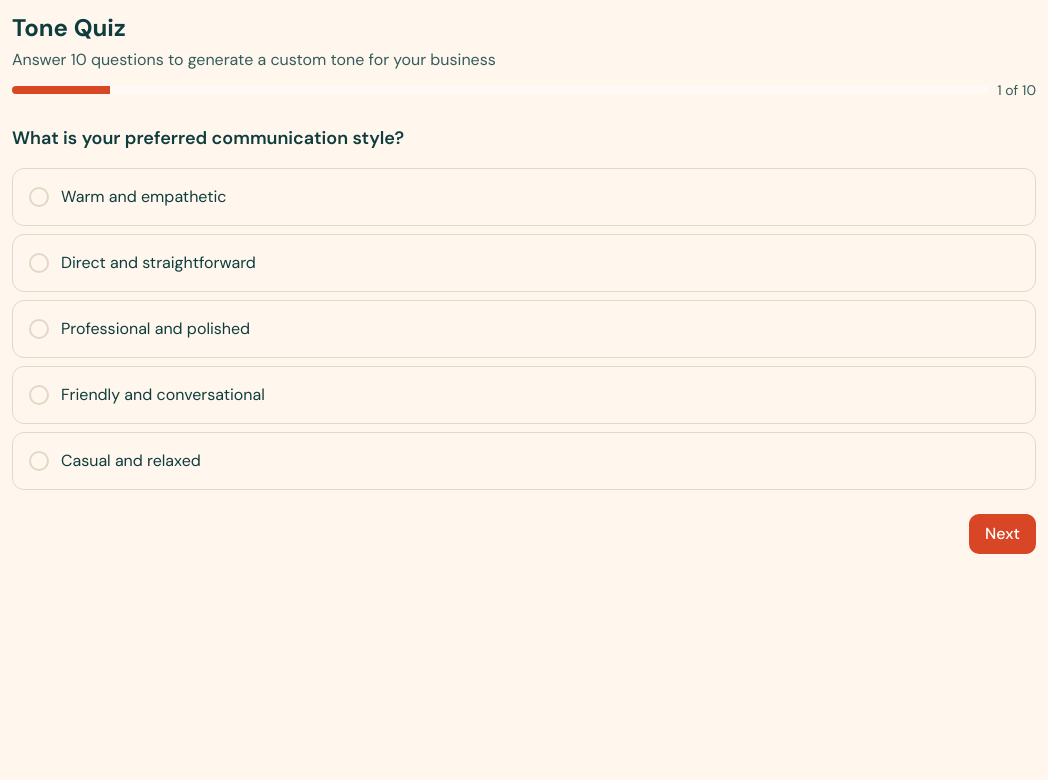
it: components/voice-profile/ToneQuiz › Question navigation › advances to next question when answer selected and Next clicked
Click the radio button "Warm and empathetic" at (144, 196), box top-left (12, 168), bottom-right (1036, 226)
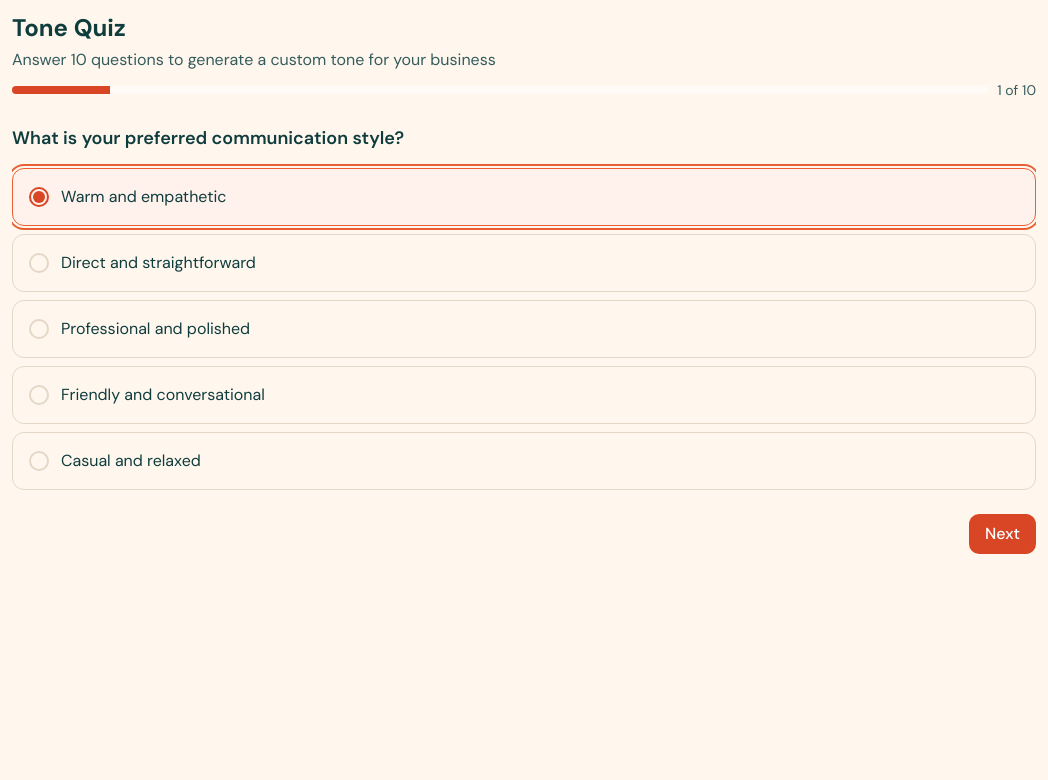
Click the button "Next" at (1003, 534), box top-left (969, 514), bottom-right (1036, 554)
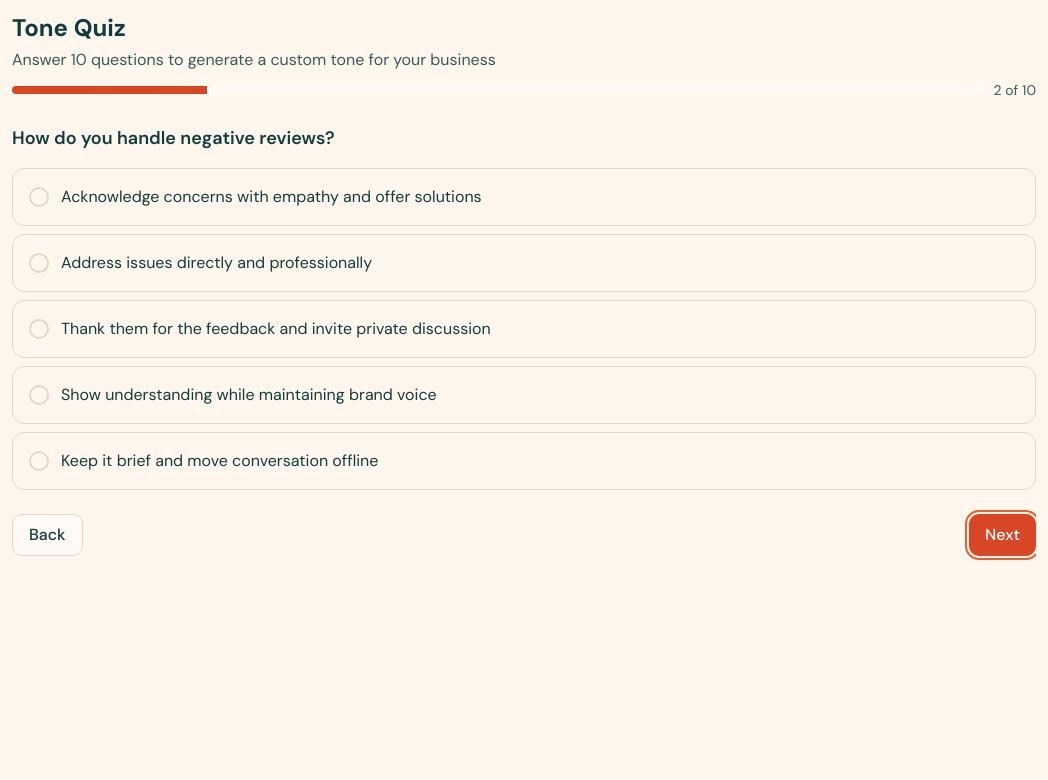
Result: the heading "How do you handle negative reviews?" is shown at top-left (12, 126), bottom-right (335, 150)
Result: the text "2 of 10" is shown at top-left (994, 80), bottom-right (1036, 100)
